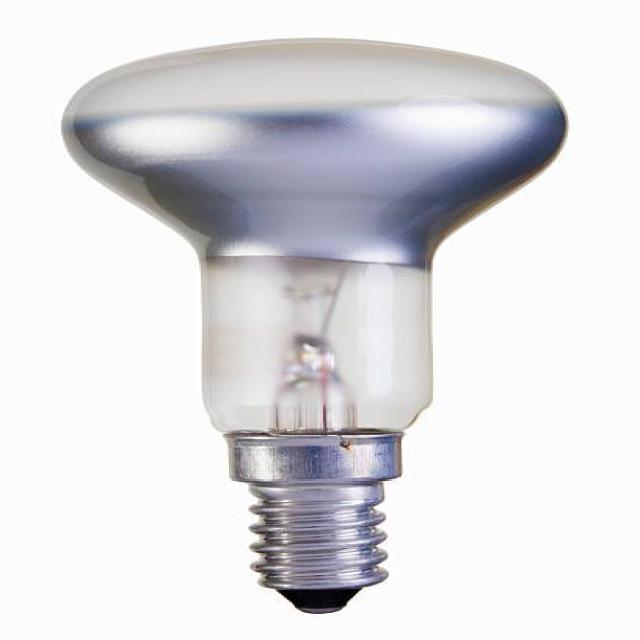electronic: (60, 35, 568, 614)
